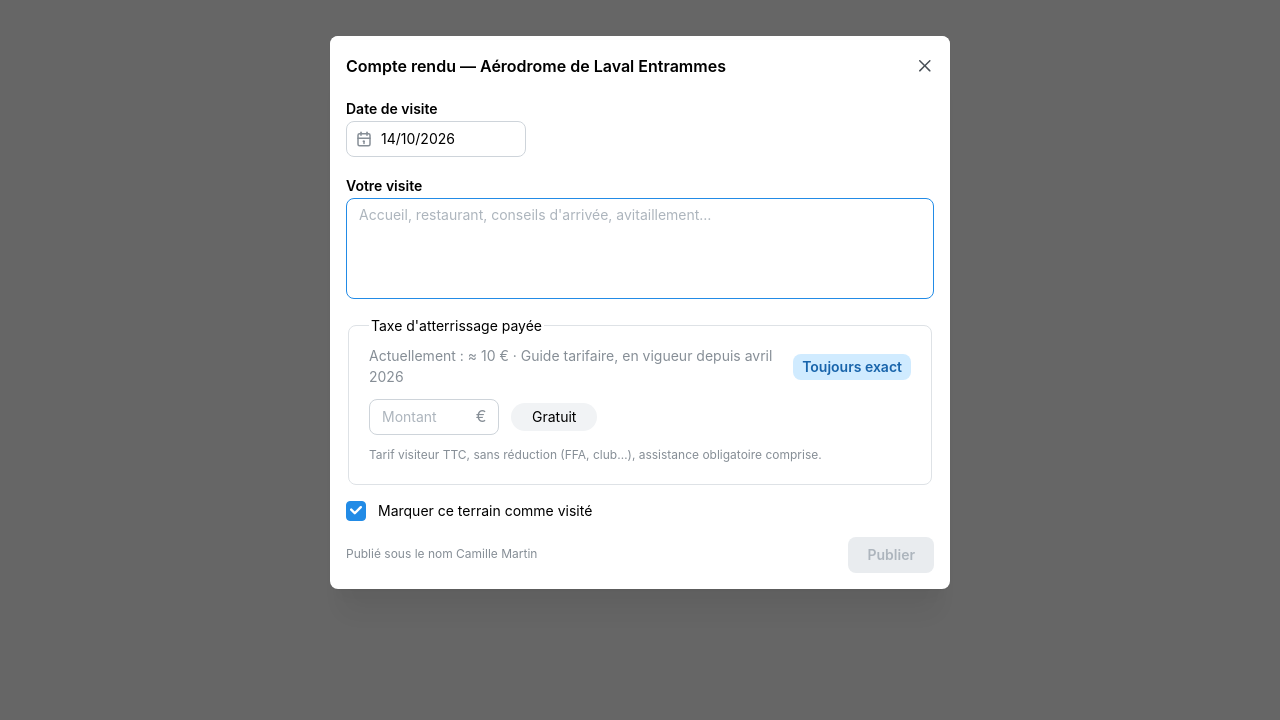
Test: ReportForm › stays open with an error when saving fails
Type "Texte" into the text box labelled "Votre visite".
click(640, 248); type("Texte")  # box [346,198,934,299]
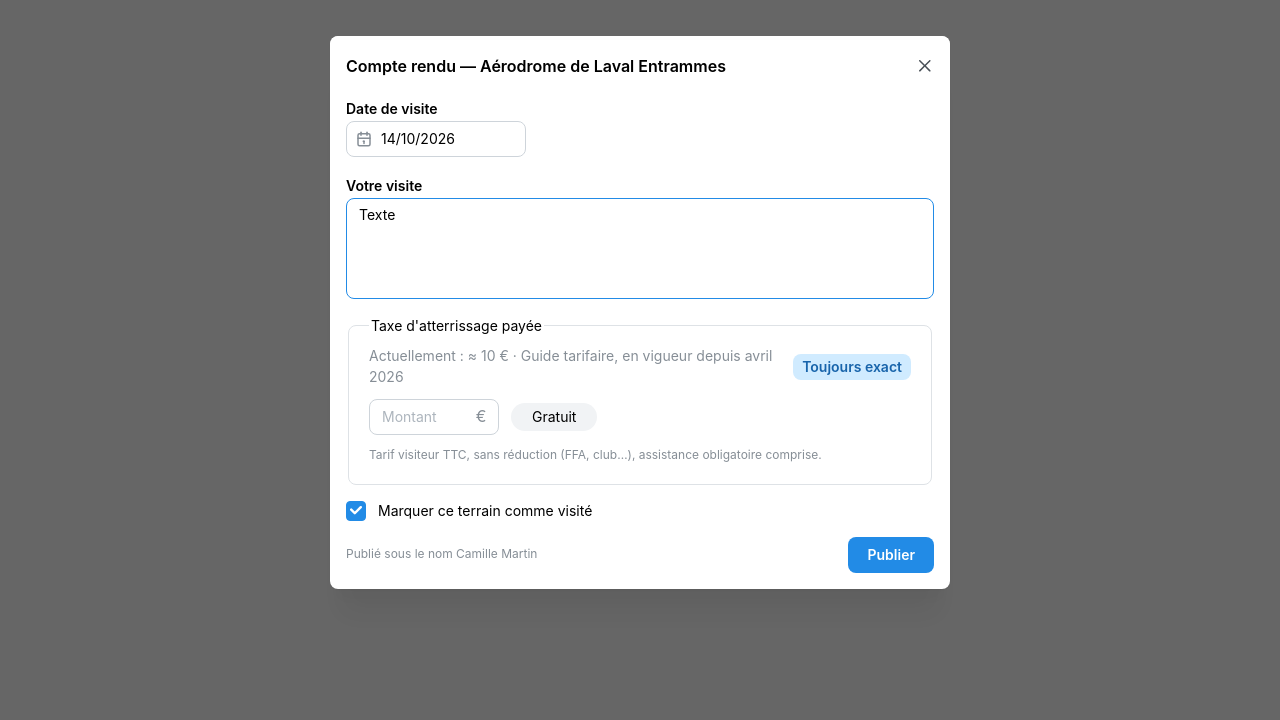
Click the button "Publier".
click(891, 555)  # box [848,537,934,573]
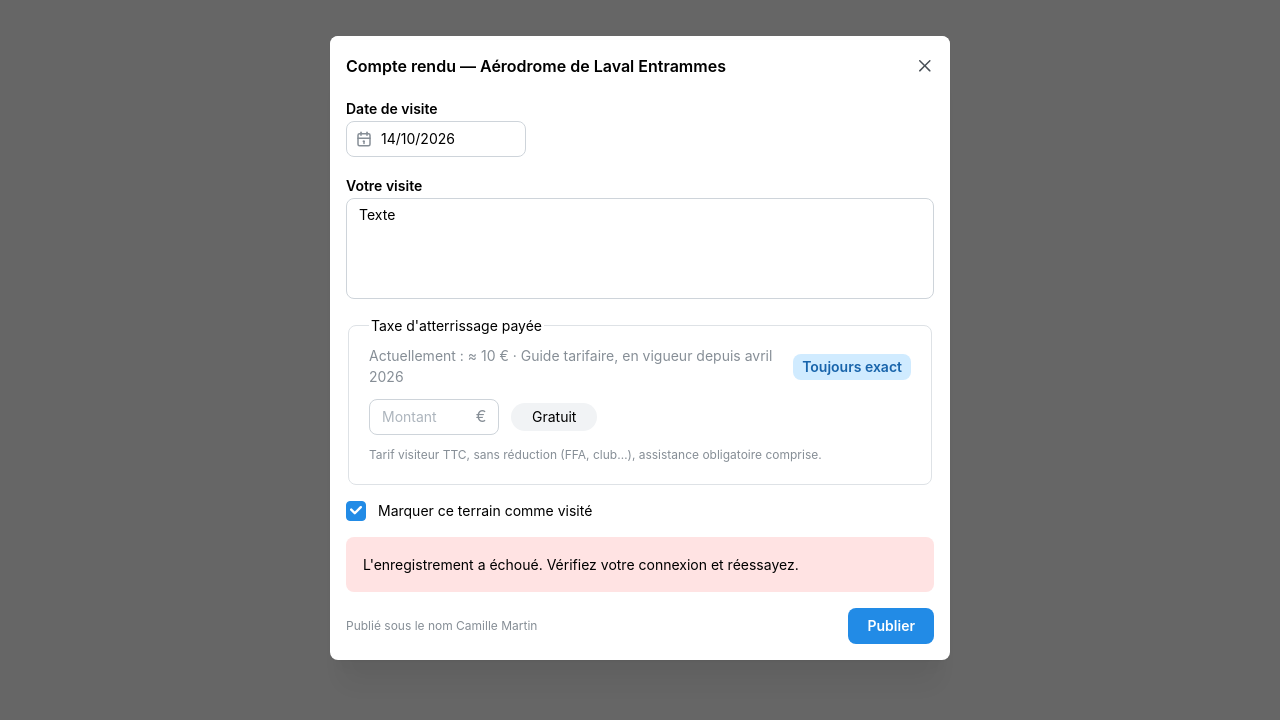
Check: the text "L'enregistrement a échoué" is shown, box [363,556,799,573]
